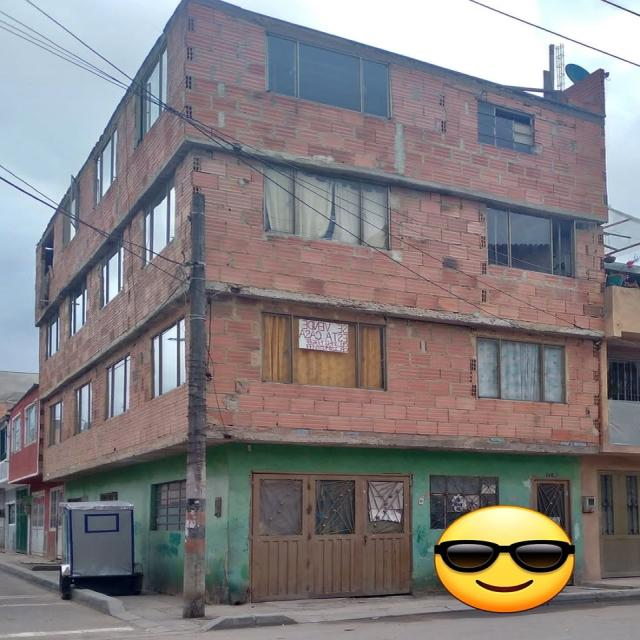Fachada: (36, 0, 609, 604), (5, 383, 63, 555)
Poste: (184, 193, 206, 617)
